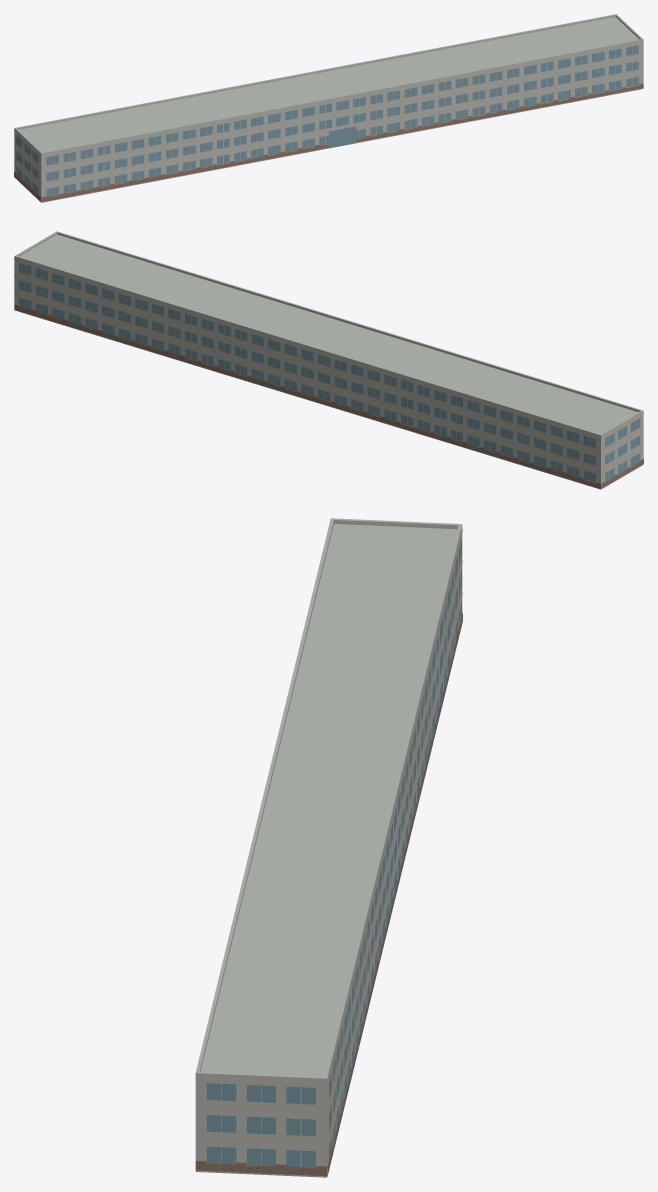
The model's file is public-704e1021-aea7-4e89-b71d-5f6d8ee3b532.glb.
3 renders of one model, top to bottom at view 1: azimuth 30°, elevation 25°; view 2: azimuth 150°, elevation 25°; view 3: azimuth 270°, elevation 25°, orthographic. The views are drawn at different scales.
Visible parts, largest first — view 1: public-704e1021-aea7-4e89-b71d-5f6d8ee3b532; view 2: public-704e1021-aea7-4e89-b71d-5f6d8ee3b532; view 3: public-704e1021-aea7-4e89-b71d-5f6d8ee3b532.
Boxes of the visible parts, x1,y1,x2,y2 form: public-704e1021-aea7-4e89-b71d-5f6d8ee3b532: [14, 14, 643, 202]; public-704e1021-aea7-4e89-b71d-5f6d8ee3b532: [14, 231, 643, 489]; public-704e1021-aea7-4e89-b71d-5f6d8ee3b532: [195, 518, 463, 1177].
Bounding box in the file's own units: 111 × 9.15 × 22.5.
